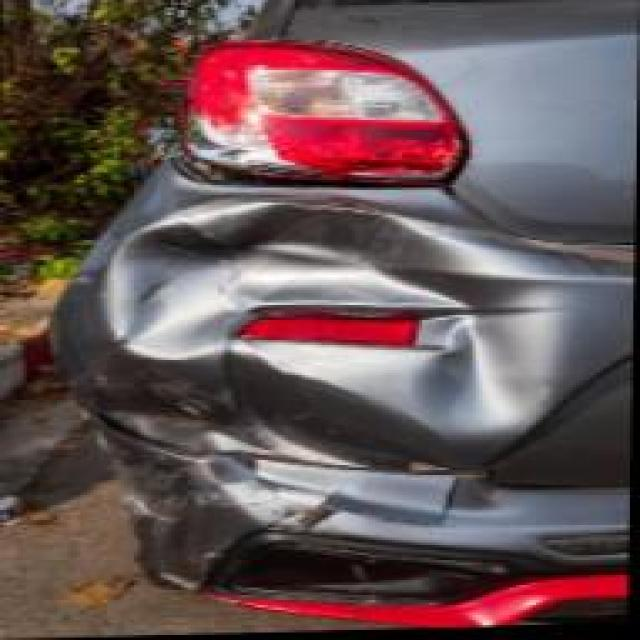Bumper: (17, 162, 637, 626)
Light: (157, 35, 465, 189)
